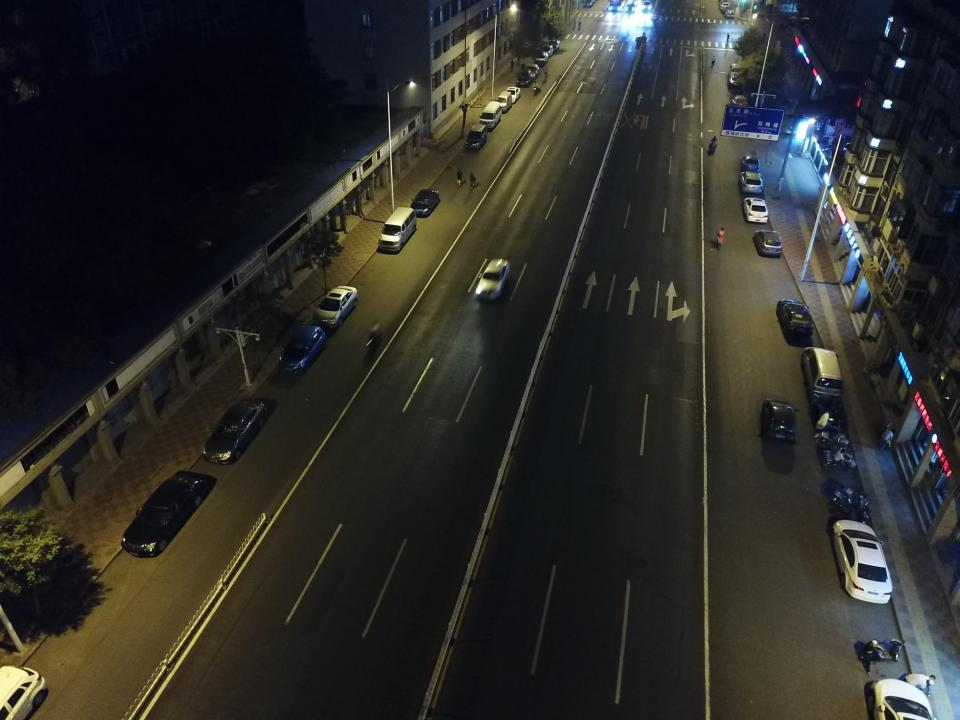car: (119, 470, 215, 559), (829, 520, 893, 604), (200, 396, 268, 466), (867, 678, 933, 720), (276, 325, 327, 375), (314, 285, 358, 329), (761, 398, 799, 442), (473, 258, 510, 301), (776, 299, 814, 336), (410, 189, 440, 217), (753, 230, 783, 256), (742, 197, 769, 223), (739, 171, 763, 194), (740, 155, 760, 173), (502, 86, 520, 104), (516, 69, 533, 88), (731, 95, 749, 111), (524, 63, 540, 79), (728, 73, 743, 89), (533, 52, 549, 65), (547, 38, 560, 51), (642, 1, 654, 11), (724, 9, 735, 18), (625, 3, 636, 12), (722, 6, 732, 14)
van: (801, 347, 843, 404), (377, 206, 417, 252), (479, 101, 502, 129), (465, 124, 487, 149), (494, 91, 513, 112), (729, 63, 741, 77), (540, 45, 553, 57), (720, 2, 730, 10)
